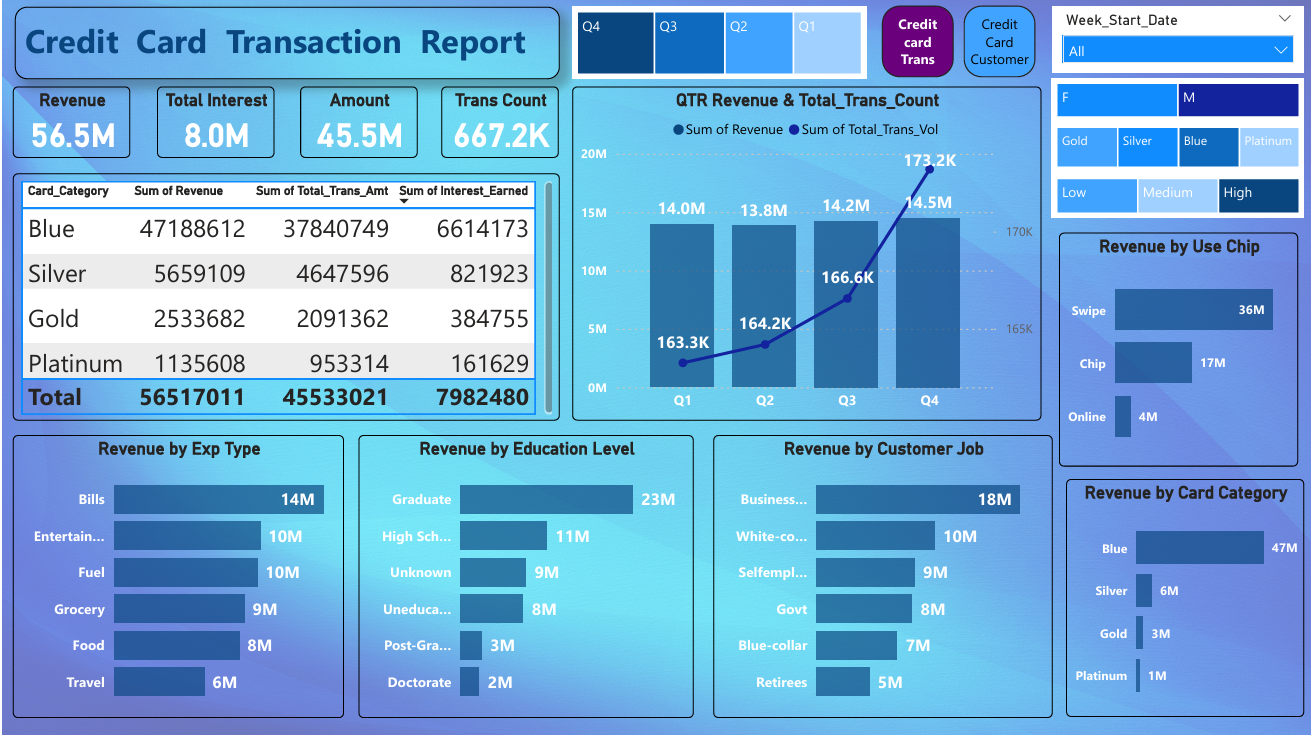

Layout of this report page (visuals, bound fields, positions):
{"tool":"powerbi","page":{"name":"Credit card Trans","canvas":[1280,720],"ordinal":0},"visuals":[{"type":"textbox","box":[11.7,6.7,533.3,71.7],"z":0},{"type":"lineStackedColumnComboChart","title":"QTR Revenue & Total_Trans_Count","fields":{"Category":["credit_card.Qtr"],"Y":["Sum(credit_card.Revenue)"],"Y2":["Sum(credit_card.Total_Trans_Vol)"]},"box":[557,85,459,327],"z":1000},{"type":"barChart","title":"Revenue by Exp Type","fields":{"Y":["Sum(credit_card.Revenue)"],"Category":["credit_card.Exp Type"]},"box":[10,426.3,323.6,276.8],"z":2000},{"type":"barChart","title":"Revenue by Education Level","fields":{"Y":["Sum(credit_card.Revenue)"],"Category":["customer.Education_Level"]},"box":[348.2,426.3,328.1,276.8],"z":3000},{"type":"barChart","title":"Revenue by Customer Job","fields":{"Y":["Sum(credit_card.Revenue)"],"Category":["customer.Customer_Job"]},"box":[695.2,426.3,331.4,276.8],"z":4000},{"type":"barChart","title":"Revenue by Card Category","fields":{"Y":["Sum(credit_card.Revenue)"],"Category":["credit_card.Card_Category"]},"box":[1040.1,426.3,233.2,276.8],"z":5000},{"type":"barChart","title":"Revenue by Customer Job","fields":{"Y":["Sum(credit_card.Revenue)"],"Category":["credit_card.Card_Category"]},"box":[1636,599,126,285],"z":6000},{"type":"barChart","title":"Revenue by Use Chip","fields":{"Category":["credit_card.Use Chip"],"Y":["Sum(credit_card.Revenue)"]},"box":[1026.7,183.3,246.7,228.3],"z":7000},{"type":"tableEx","fields":{"Values":["credit_card.Card_Category","Sum(credit_card.Revenue)","Sum(credit_card.Total_Trans_Amt)","Sum(credit_card.Interest_Earned)"]},"box":[10,170,535,242],"z":8000},{"type":"card","title":"Revenue","fields":{"Values":["Sum(credit_card.Revenue)"]},"box":[10,85,115,70],"z":9000},{"type":"card","title":"Total Interest","fields":{"Values":["Sum(credit_card.Interest_Earned)"]},"box":[151,85,115,70],"z":10000},{"type":"card","title":"Amount","fields":{"Values":["Sum(credit_card.Total_Trans_Amt)"]},"box":[291,85,115,70],"z":11000},{"type":"card","title":"Trans Count","fields":{"Values":["Sum(credit_card.Total_Trans_Vol)"]},"box":[429,85,115,70],"z":12000},{"type":"slicer","fields":{"Values":["credit_card.Week_Start_Date"]},"box":[1026.7,6.7,246.7,65],"z":13000},{"type":"treemap","fields":{"Group":["credit_card.Qtr"],"Values":["Avg(credit_card.Client_Num)"]},"box":[557,7,288,71],"z":14000},{"type":"treemap","fields":{"Values":["Avg(credit_card.Client_Num)"],"Group":["customer.Gender"]},"box":[853,7,163,71],"z":15000},{"type":"treemap","fields":{"Values":["Avg(credit_card.Client_Num)"],"Group":["credit_card.Card_Category"]},"box":[1026.7,78.3,246.7,48.3],"z":16000},{"type":"treemap","fields":{"Values":["Avg(credit_card.Client_Num)"],"Group":["customer.Income Group"]},"box":[1026.7,133.3,246.7,43.3],"z":17000}]}

Visuals, with their boxes in screenshot pixels (x1, y1, x2, y2), scaled from the page's 1280x720 canvas onto the 1315x736 screenshot:
textbox: detection(12, 7, 560, 80)
"QTR Revenue & Total_Trans_Count" lineStackedColumnComboChart: detection(572, 87, 1044, 421)
"Revenue by Exp Type" barChart: detection(10, 436, 343, 719)
"Revenue by Education Level" barChart: detection(358, 436, 695, 719)
"Revenue by Customer Job" barChart: detection(714, 436, 1055, 719)
"Revenue by Card Category" barChart: detection(1069, 436, 1308, 719)
"Revenue by Use Chip" barChart: detection(1055, 187, 1308, 421)
tableEx - credit_card.Card_Category x Sum(credit_card.Revenue): detection(10, 174, 560, 421)
"Revenue" card: detection(10, 87, 128, 158)
"Total Interest" card: detection(155, 87, 273, 158)
"Amount" card: detection(299, 87, 417, 158)
"Trans Count" card: detection(441, 87, 559, 158)
slicer - credit_card.Week_Start_Date: detection(1055, 7, 1308, 73)
treemap - credit_card.Qtr x Avg(credit_card.Client_Num): detection(572, 7, 868, 80)
treemap - Avg(credit_card.Client_Num) x customer.Gender: detection(876, 7, 1044, 80)
treemap - Avg(credit_card.Client_Num) x credit_card.Card_Category: detection(1055, 80, 1308, 129)
treemap - Avg(credit_card.Client_Num) x customer.Income Group: detection(1055, 136, 1308, 181)
